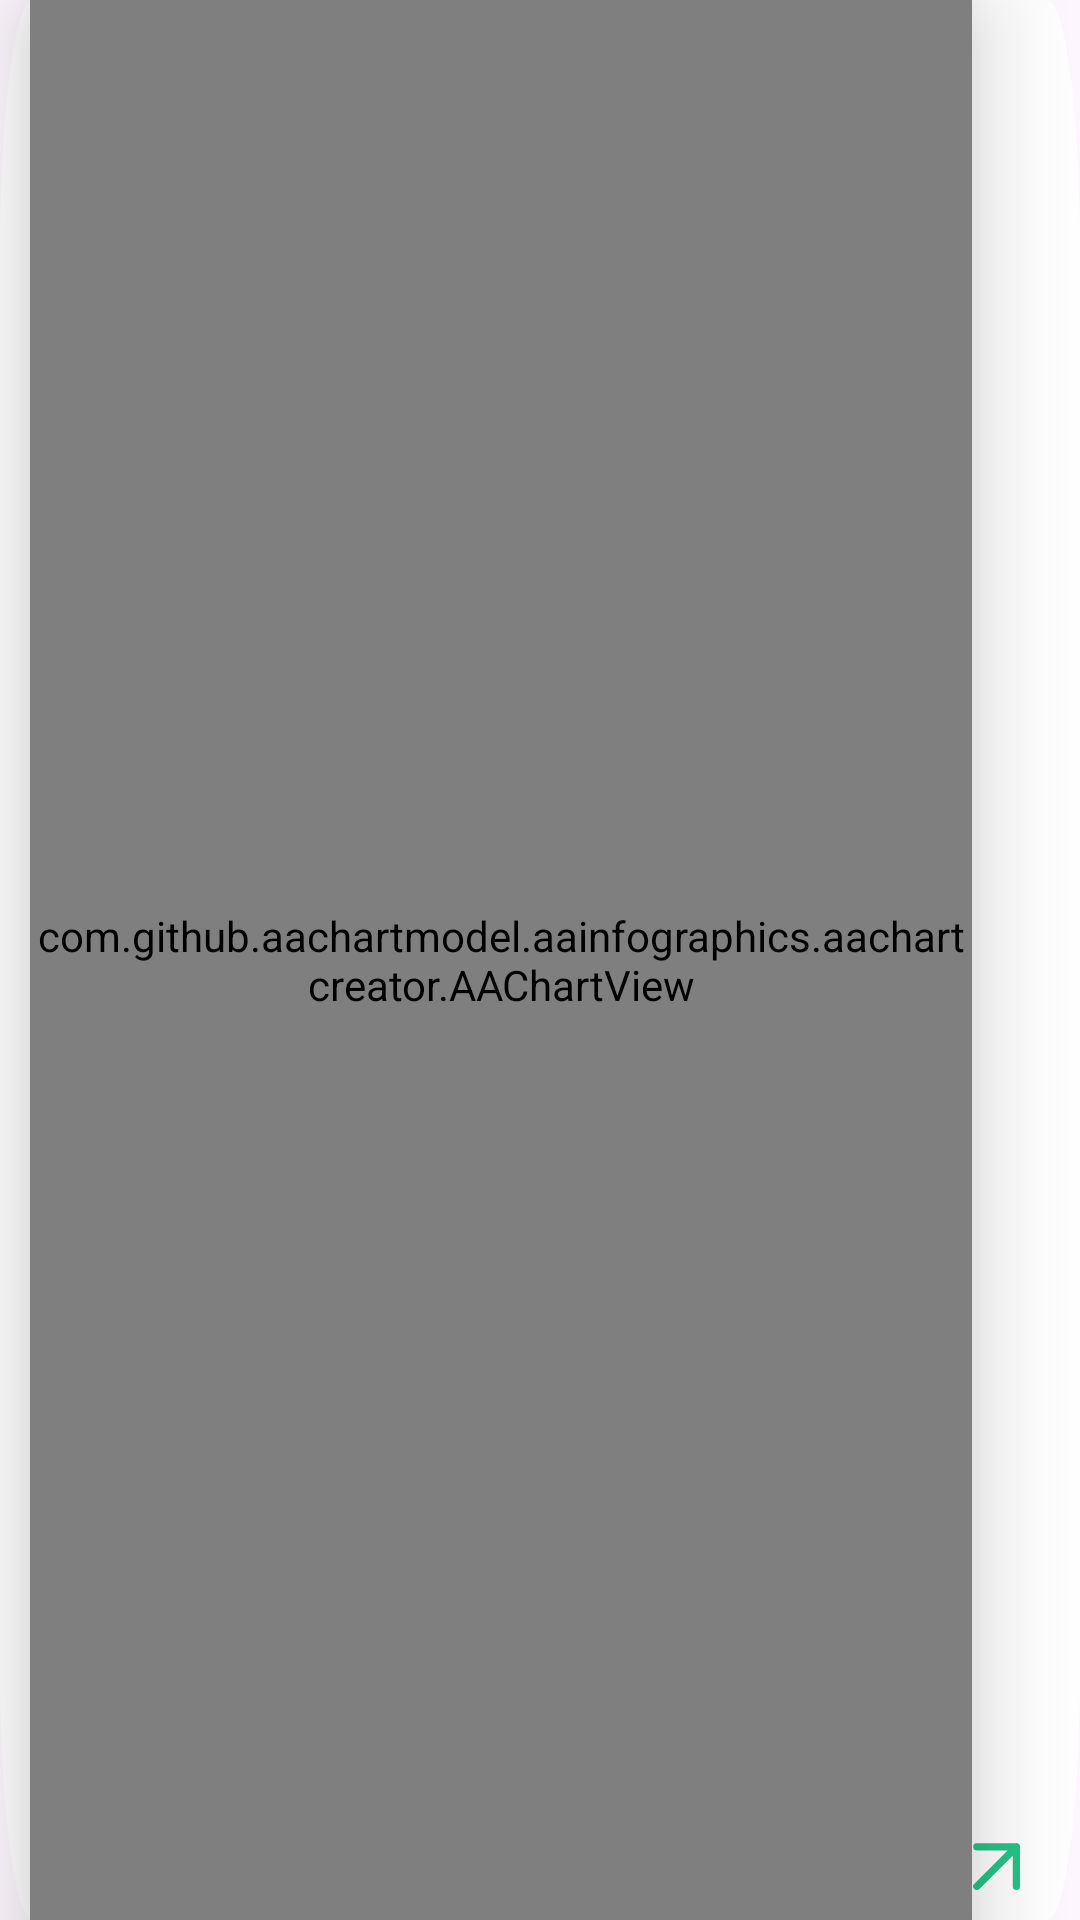

Icons on this 1080*1920 Android screen, each with its box as box(x1, y1, x2, y2):
up arrow: box(972, 1842, 1020, 1890)
